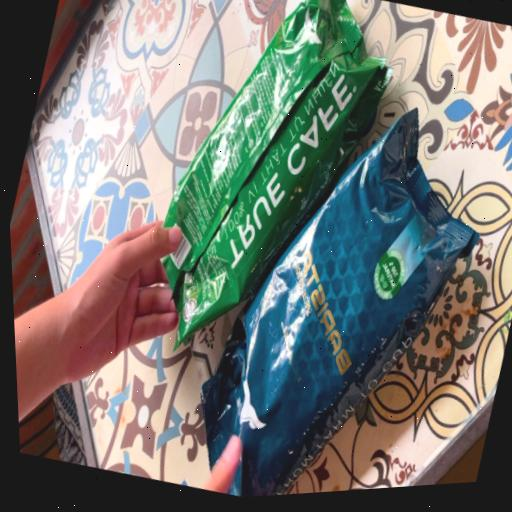cafe_hat: (201, 108, 475, 497)
cafe_xay: (162, 0, 387, 344)
